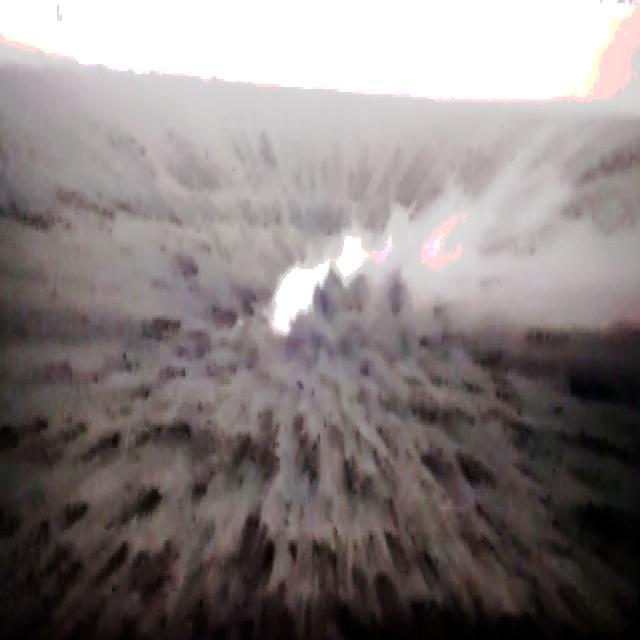asap: (266, 134, 565, 365)
